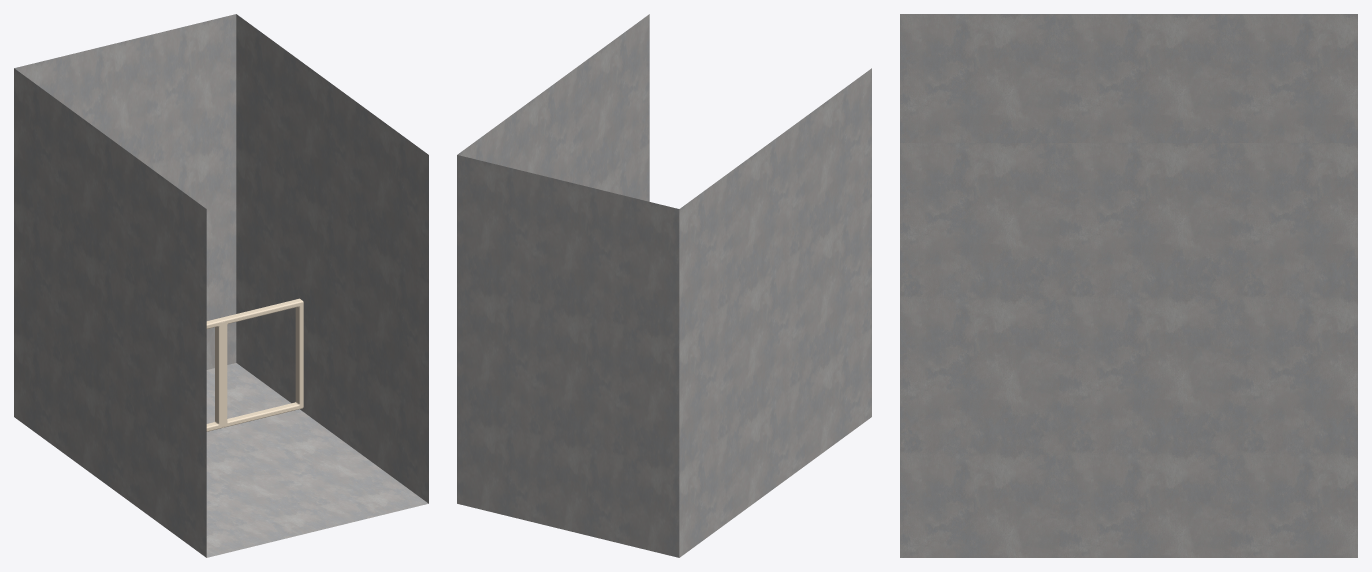
The model's file is shop.glb.
The picture shows the model from 3 angles, left to right: view 1: azimuth 30°, elevation 25°; view 2: azimuth 150°, elevation 25°; view 3: azimuth 270°, elevation 25°; orthographic projection. The views are drawn at different scales.
Parts seen in each view (by area): view 1: Room, window 틀; view 2: Room; view 3: Room.
Part boxes in pixels (x1,y1,x2,y2): Room: (14,14,428,557); window 틀: (206,298,303,431); Room: (457,14,871,557); Room: (900,14,1357,557).
Bounding box in the file's own units: 2 × 3 × 3.
Materials: 2 (1 with a texture image).
